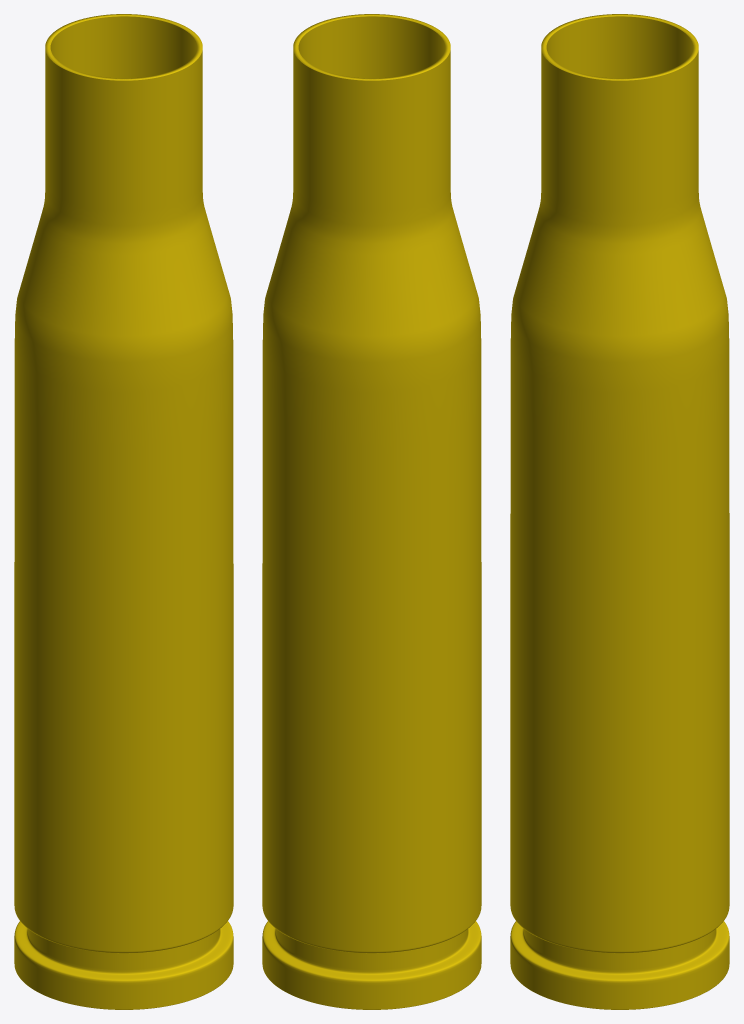
Rendered from Shell.fbx.
3 renders of one model, left to right at view 1: azimuth 30°, elevation 25°; view 2: azimuth 150°, elevation 25°; view 3: azimuth 270°, elevation 25°, orthographic.
Parts seen in each view (by area): view 1: Cylinder.001; view 2: Cylinder.001; view 3: Cylinder.001.
Boxes of the visible parts, x1,y1,x2,y2 form: Cylinder.001: (14, 14, 233, 1009); Cylinder.001: (262, 14, 481, 1009); Cylinder.001: (510, 14, 729, 1009).
Size of the model in its own units: 284 by 1312 by 284.
